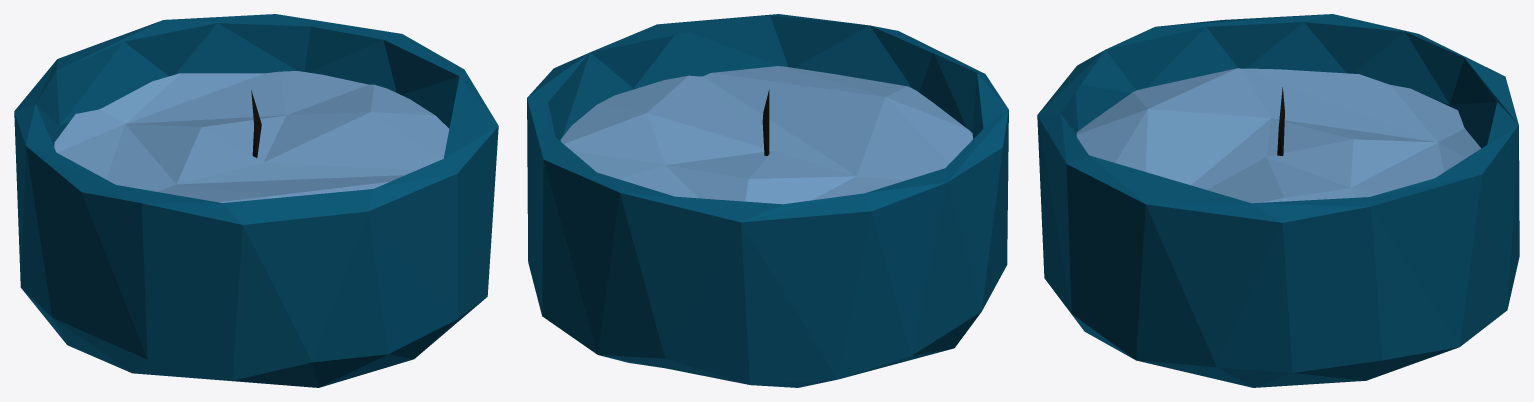
The model's file is Candle.fbx.
3 views of the same model, side by side, from view 1: azimuth 30°, elevation 25°; view 2: azimuth 150°, elevation 25°; view 3: azimuth 270°, elevation 25° (orthographic).
Visible parts, largest first — view 1: CandleLowPoly; view 2: CandleLowPoly; view 3: CandleLowPoly.
Part boxes in pixels (left/top/right/bottom): CandleLowPoly: left=14, top=14, right=498, bottom=387; CandleLowPoly: left=527, top=14, right=1008, bottom=387; CandleLowPoly: left=1037, top=14, right=1519, bottom=387.
Size of the model in its own units: 7.97 by 3.95 by 7.94.
